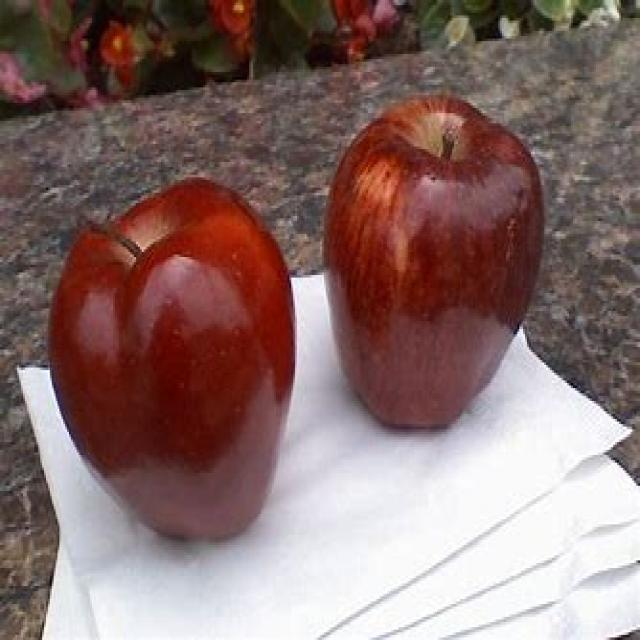Apple: (47, 180, 297, 547), (328, 91, 550, 438)
